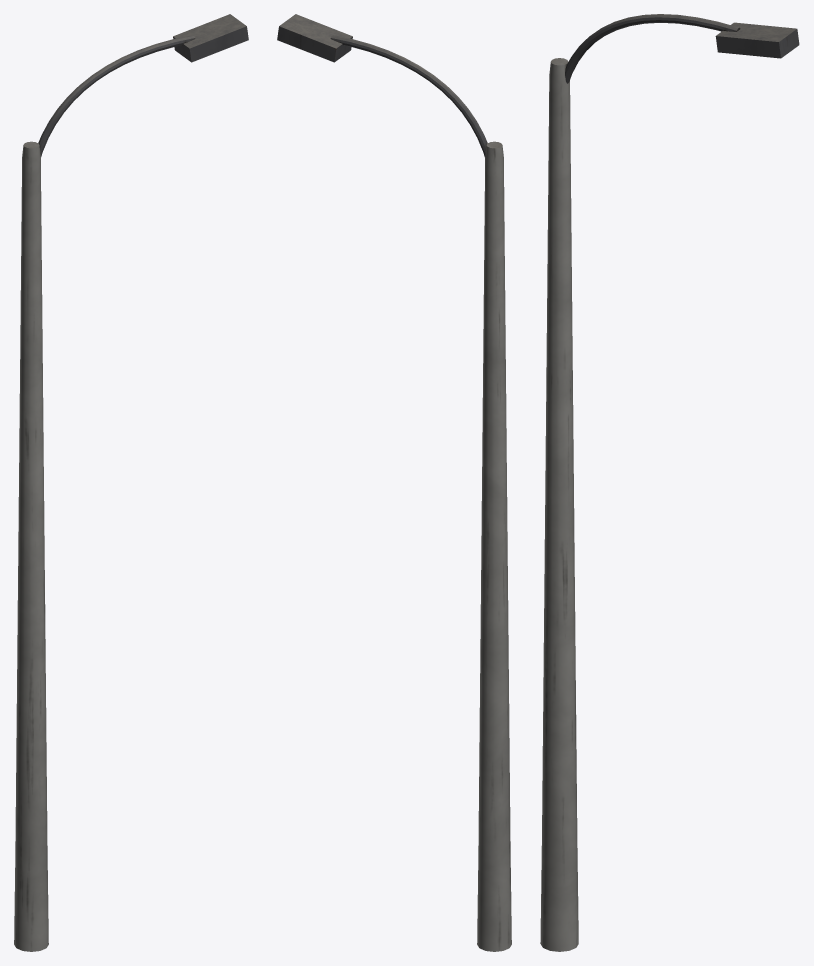
Rendered from SM_StreetLamp_Soviet.fbx.
3 views of the same model, side by side, from view 1: azimuth 30°, elevation 25°; view 2: azimuth 150°, elevation 25°; view 3: azimuth 330°, elevation 25° (orthographic). The views are drawn at different scales.
Visible parts, largest first — view 1: SM_StreetLamp_Soviet; view 2: SM_StreetLamp_Soviet; view 3: SM_StreetLamp_Soviet.
Boxes of the visible parts, x1,y1,x2,y2 form: SM_StreetLamp_Soviet: (14,14,248,951); SM_StreetLamp_Soviet: (277,14,511,951); SM_StreetLamp_Soviet: (540,14,799,951).
Bounding box in the file's own units: 1.94 × 7.21 × 0.26.
Materials: 2 (1 with a texture image).
